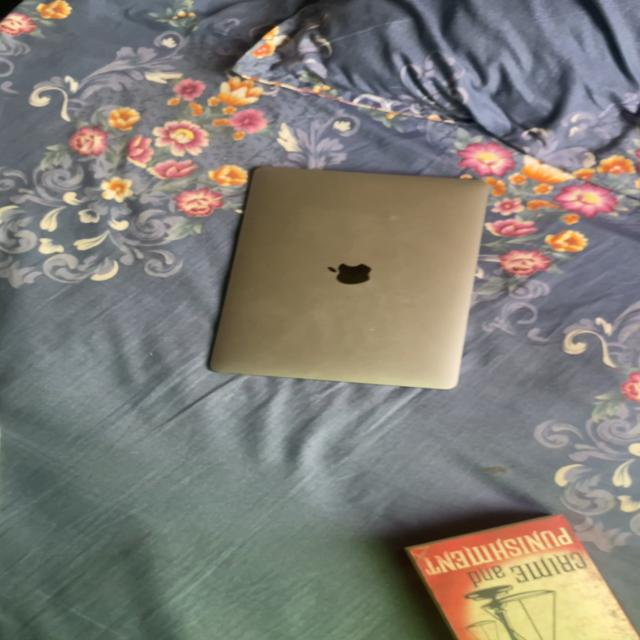book: (370, 509, 639, 640)
laptop: (209, 148, 515, 398)
